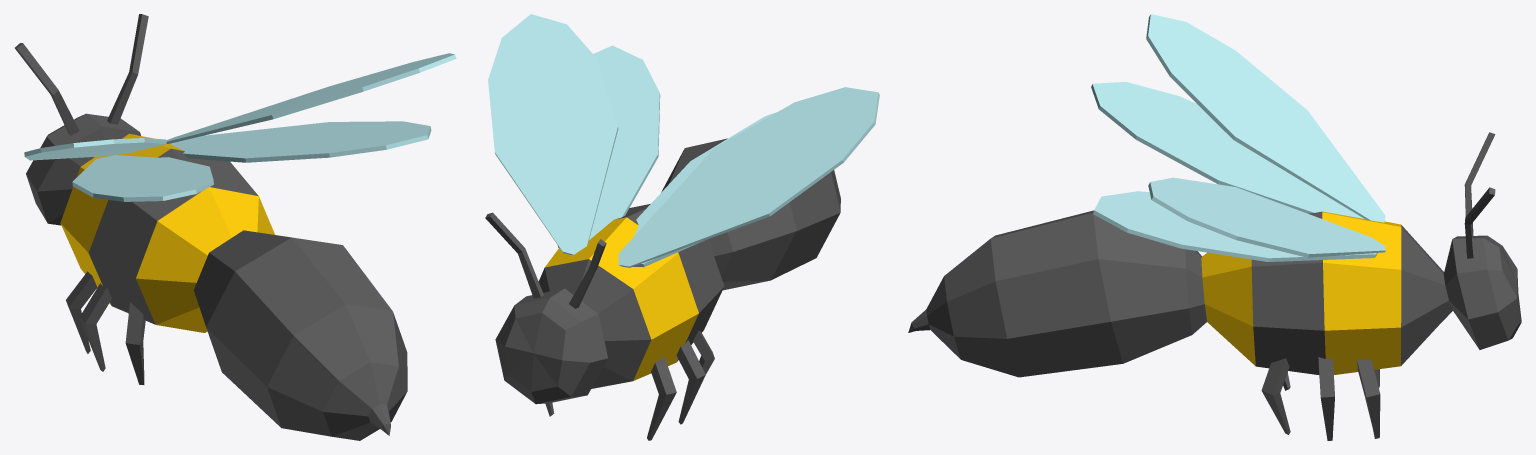
The model's file is Bee_01.gltf.
The picture shows the model from 3 angles, left to right: view 1: azimuth 30°, elevation 25°; view 2: azimuth 150°, elevation 25°; view 3: azimuth 270°, elevation 25°; orthographic projection. The views are drawn at different scales.
Parts seen in each view (by area): view 1: node-0; view 2: node-0; view 3: node-0.
Boxes of the visible parts, bbox=[...] form: node-0: bbox=[15, 14, 456, 440]; node-0: bbox=[485, 14, 879, 440]; node-0: bbox=[908, 14, 1521, 440].
Size of the model in its own units: 8.24 by 6.32 by 11.24.
